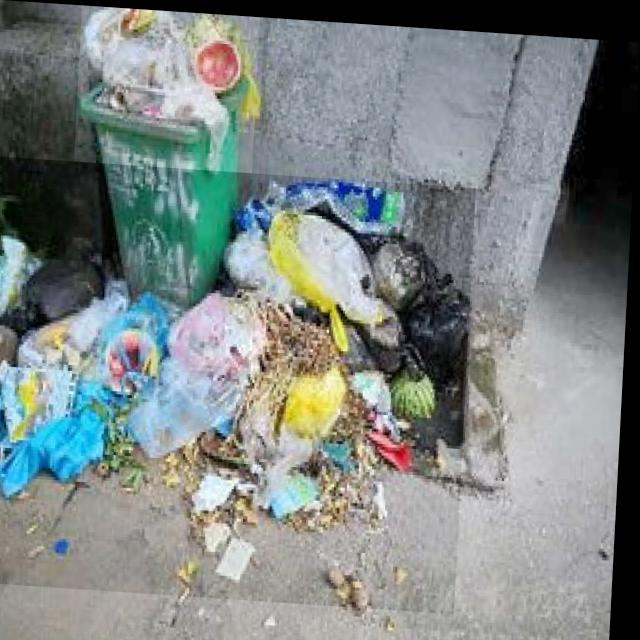garbage: (0, 156, 478, 607)
overflow: (70, 4, 260, 306)
